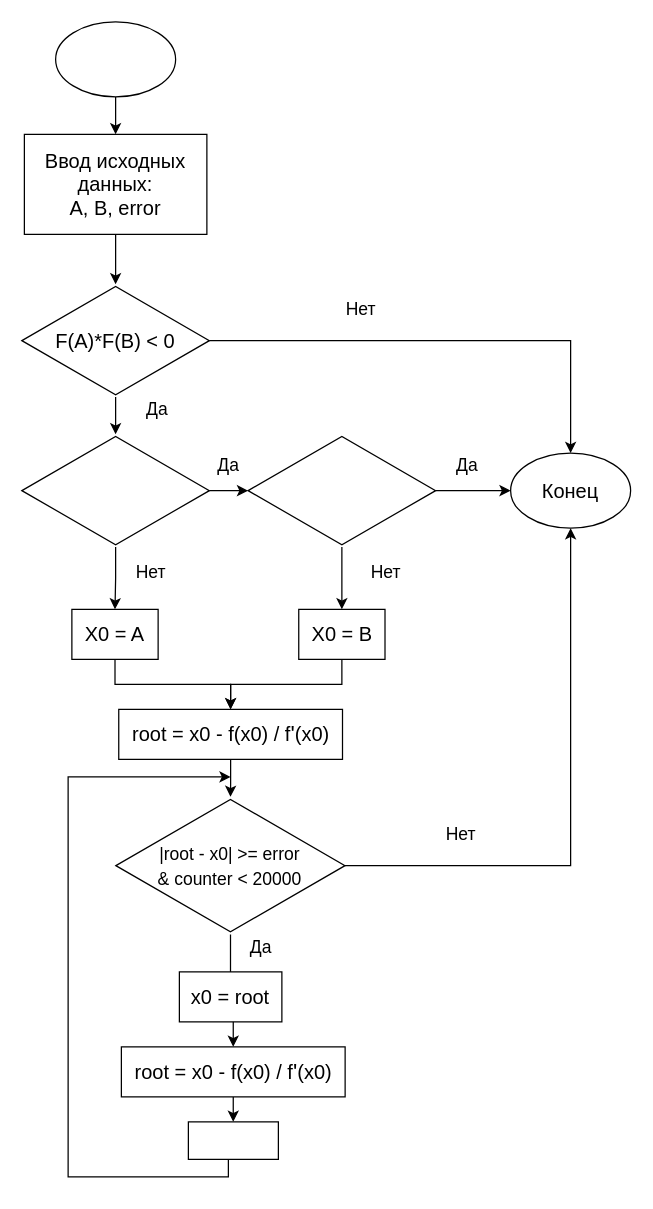
Some shapes in this 653 by 1209 pixel diagram are drawn without their labels. The shapes that lost their labels are listed below. From the top down, each one's box as (x1, y1, x2, y2) in pixels, then its label:
(54, 21, 176, 97): Начало
(21, 433, 209, 547): F(A)*F''(A) <= 0
(247, 433, 436, 547): F(B)*F''(B) <= 0
(187, 1121, 278, 1159): counter++
